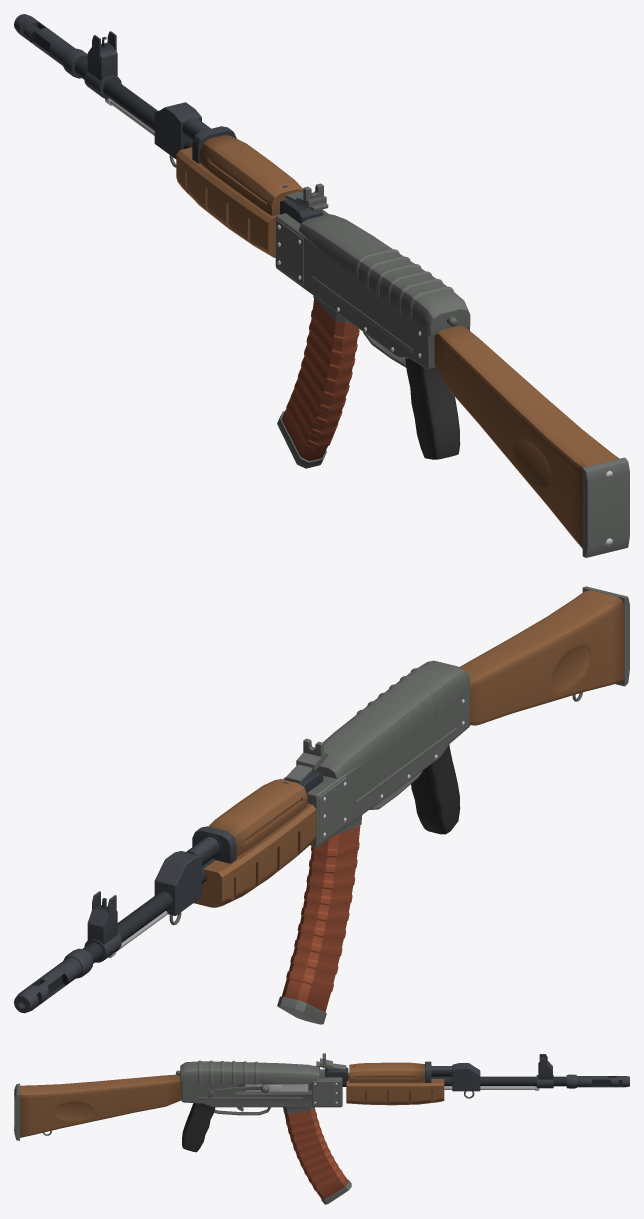
File: vm_rifle.glb
3 views of the same model, one above another, from view 1: azimuth 30°, elevation 25°; view 2: azimuth 150°, elevation 25°; view 3: azimuth 270°, elevation 25° (orthographic). The views are drawn at different scales.
Visible parts, largest first — view 1: body_wood, body_steel_park, mag, body_steel_blued, body_polymer; view 2: body_wood, body_steel_park, body_steel_blued, mag, body_polymer; view 3: body_wood, body_steel_park, body_steel_blued, mag, body_polymer, charging, body_steel_bare.
Boxes of the visible parts, box(x1,y1,x2,y2) form: body_wood: box(176, 135, 619, 548); body_steel_park: box(169, 155, 629, 557); mag: box(277, 295, 359, 468); body_steel_blued: box(14, 14, 323, 223); body_polymer: box(405, 358, 460, 459); body_wood: box(193, 590, 624, 907); body_steel_park: box(169, 586, 629, 925); body_steel_blued: box(14, 771, 323, 1013); mag: box(277, 815, 362, 1024); body_polymer: box(411, 745, 460, 834); body_wood: box(20, 1062, 444, 1137); body_steel_park: box(14, 1053, 474, 1140); body_steel_blued: box(325, 1054, 629, 1091); mag: box(283, 1107, 351, 1204); body_polymer: box(182, 1103, 215, 1152); charging: box(245, 1084, 308, 1093); body_steel_bare: box(14, 1083, 539, 1130).
Size of the model in its own units: 0.0695 by 0.3081 by 1.17.
